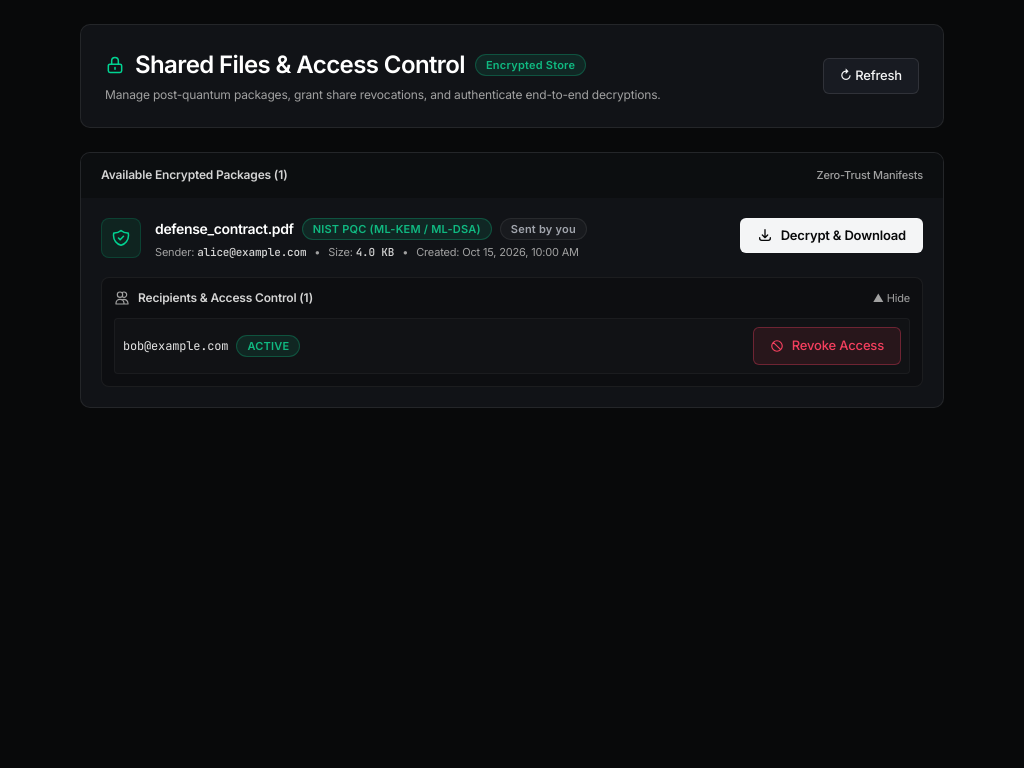
Test: FileList and Decryption Component › Phase 6 Revocation UI (Task 6.3) › successfully revokes grant, updates UI status to REVOKED, and shows toast
// Open modal
Click the button with test id "revoke-btn-grant-bob-101": (827, 346) [753,327,901,364]
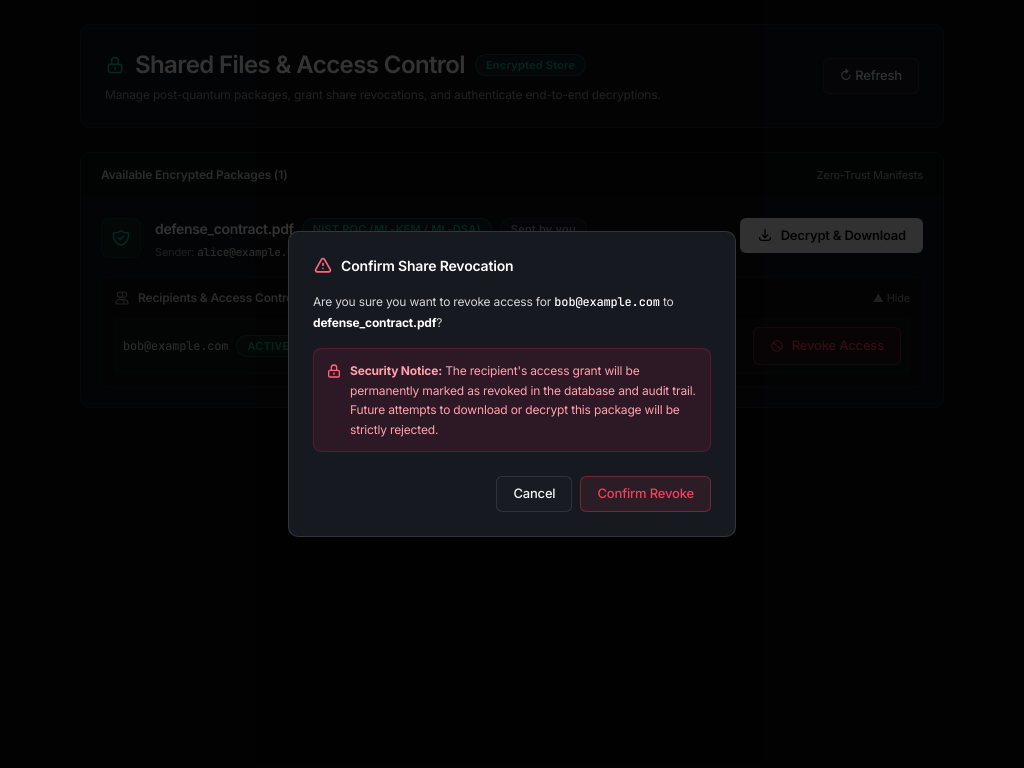
// Confirm revocation
Click the button with test id "confirm-revoke-btn": (646, 494) [580,476,711,512]
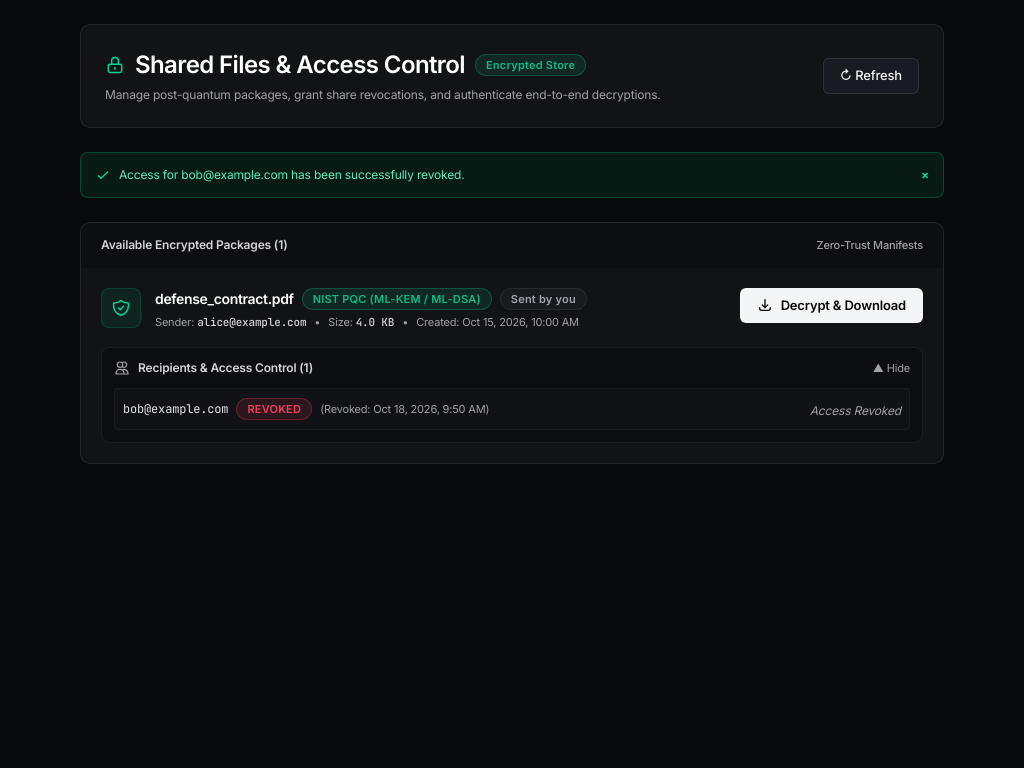
Expected: the dialog with test id "revoke-confirmation-modal" is gone
Expected: the text "REVOKED" is shown, [236,398,312,420]
Expected: the text "Access Revoked" is shown, [810,403,901,418]
